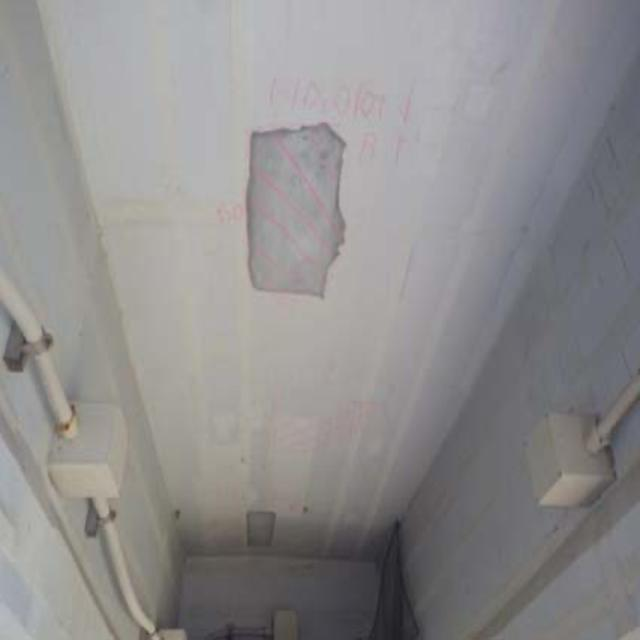spalling: (238, 120, 356, 317)
